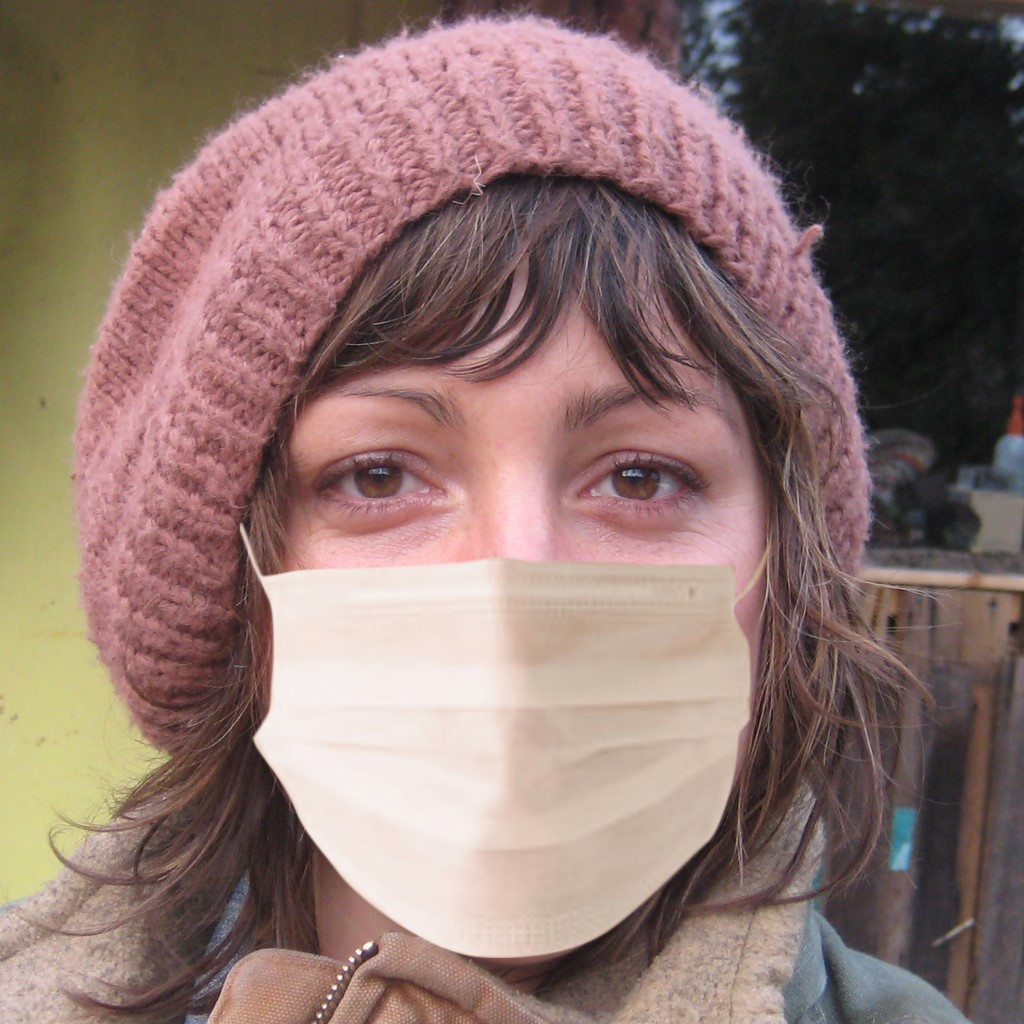con_mascara: (261, 209, 772, 998)
